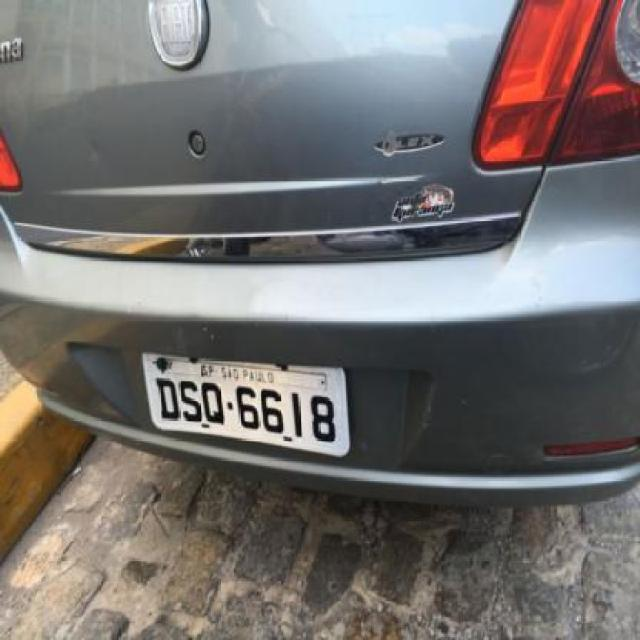old_plate: (135, 348, 358, 462)
